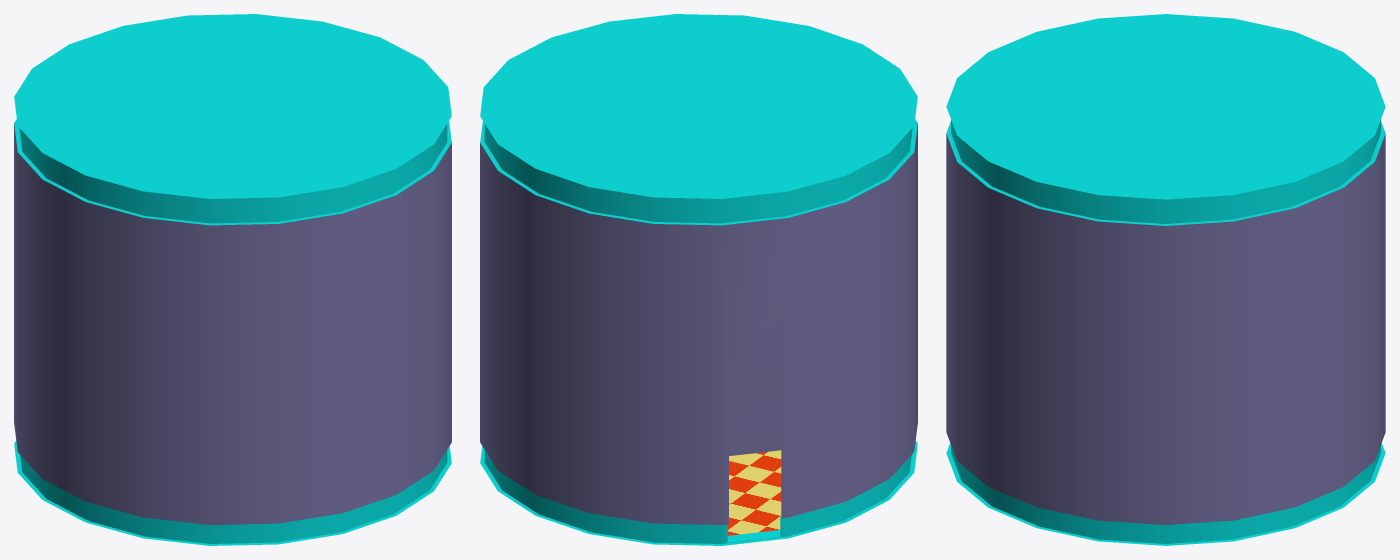
File: Cocina.fbx
3 renders of one model, left to right at view 1: azimuth 30°, elevation 25°; view 2: azimuth 150°, elevation 25°; view 3: azimuth 270°, elevation 25°, orthographic.
Visible parts, largest first — view 1: polySurface68; view 2: polySurface68; view 3: polySurface68.
Boxes of the visible parts, <box> form: polySurface68: <box>14,14,451,545</box>; polySurface68: <box>480,14,917,545</box>; polySurface68: <box>946,14,1385,545</box>.
Size of the model in its own units: 115 by 101 by 115.
